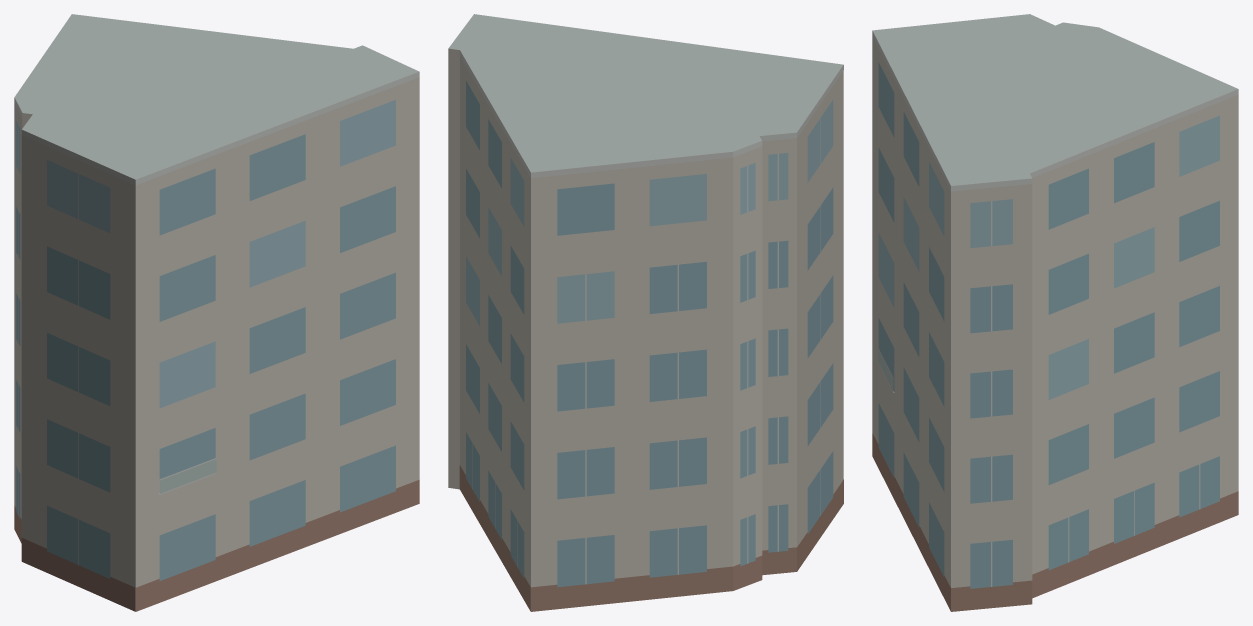
The model's file is survey-upis-32861514.glb.
3 renders of one model, left to right at view 1: azimuth 30°, elevation 25°; view 2: azimuth 150°, elevation 25°; view 3: azimuth 270°, elevation 25°, orthographic. The views are drawn at different scales.
Visible parts, largest first — view 1: survey-upis-32861514.tmp; view 2: survey-upis-32861514.tmp; view 3: survey-upis-32861514.tmp.
Boxes of the visible parts, box(x1,y1,x2,y2) form: survey-upis-32861514.tmp: box(14, 14, 419, 611); survey-upis-32861514.tmp: box(448, 14, 843, 611); survey-upis-32861514.tmp: box(872, 14, 1238, 611).
Size of the model in its own units: 16.49 by 19.02 by 14.83.
